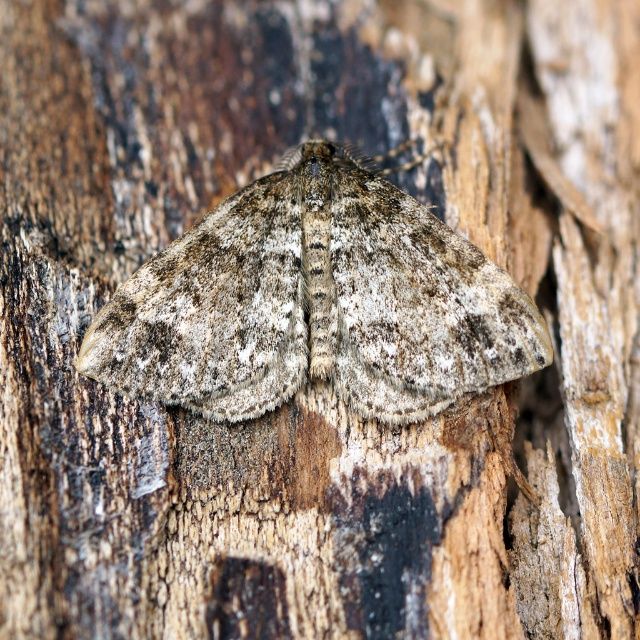Moths and butterflies: (73, 136, 561, 430)
